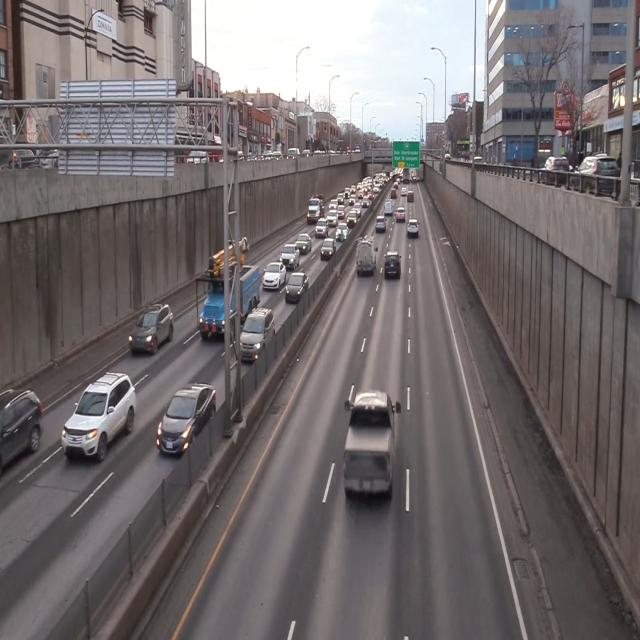Car: (62, 370, 139, 464), (343, 392, 405, 495), (157, 384, 221, 465), (130, 300, 176, 366), (238, 309, 277, 368), (284, 271, 312, 308), (356, 235, 378, 280), (382, 244, 406, 279), (264, 262, 286, 291)
